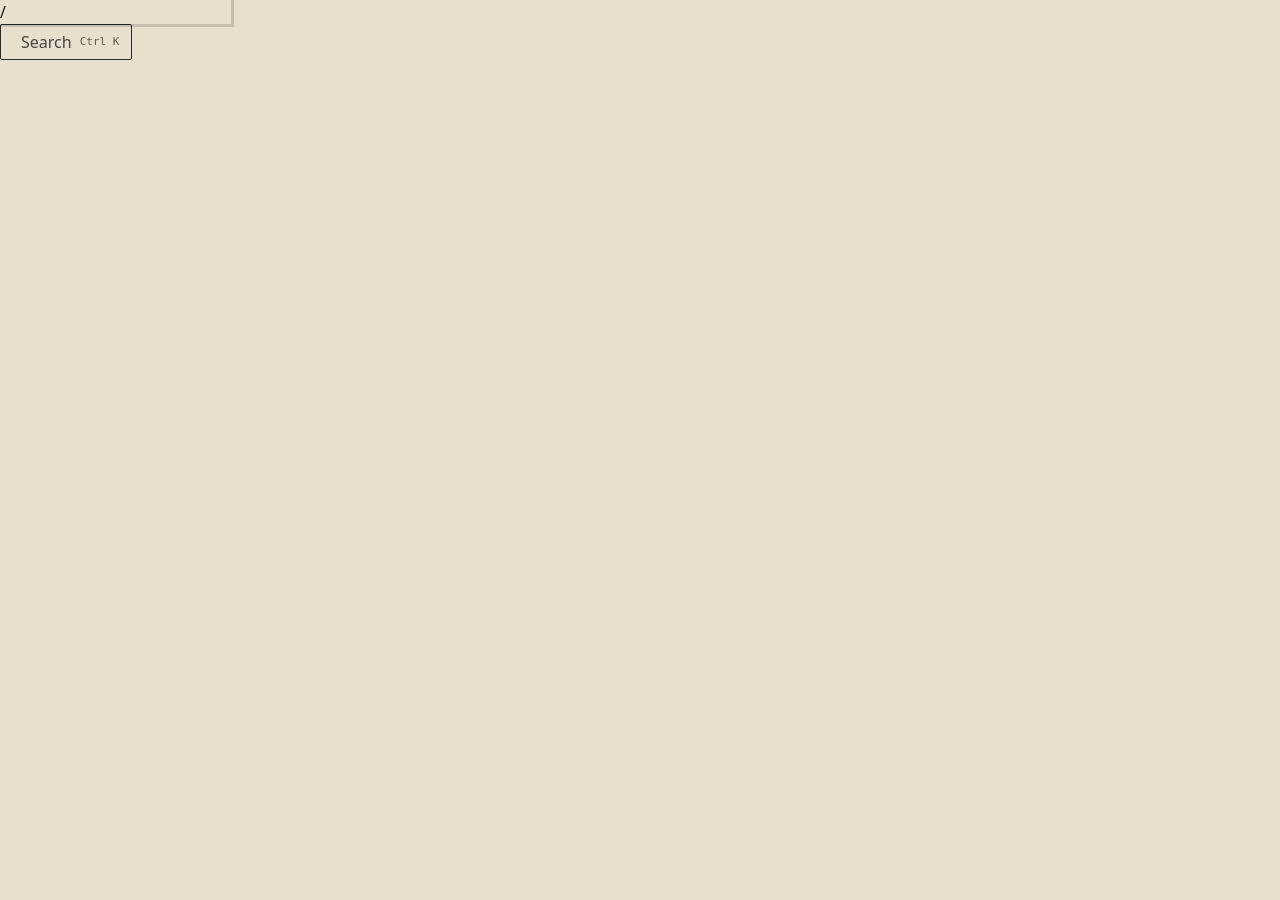
Test: search › opens with / outside a text field, and from the button
Earlier steps of the test are not shown.
Step 1. Press /
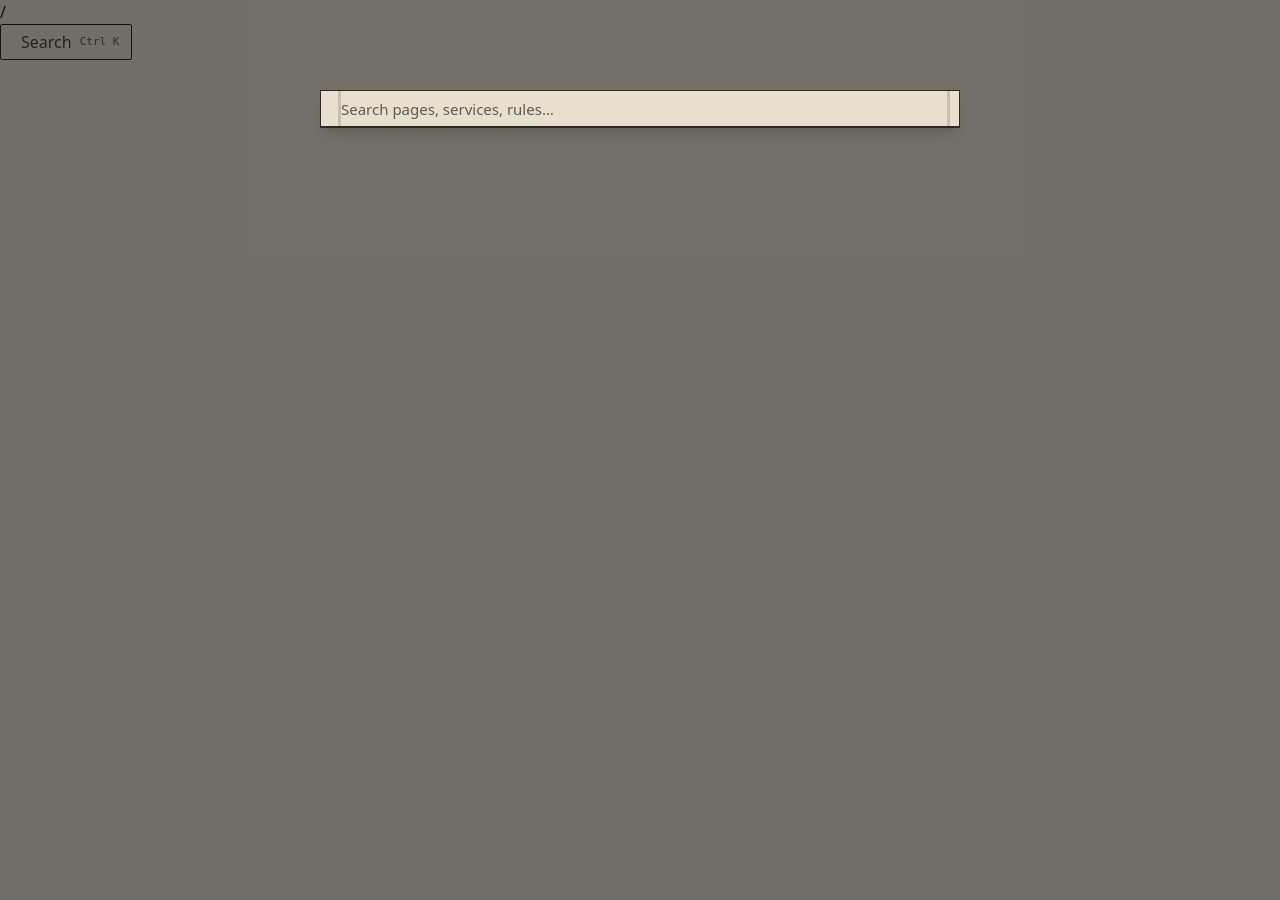
Expected: the dialog is shown, [320,90,960,128]
Step 2. Press Escape
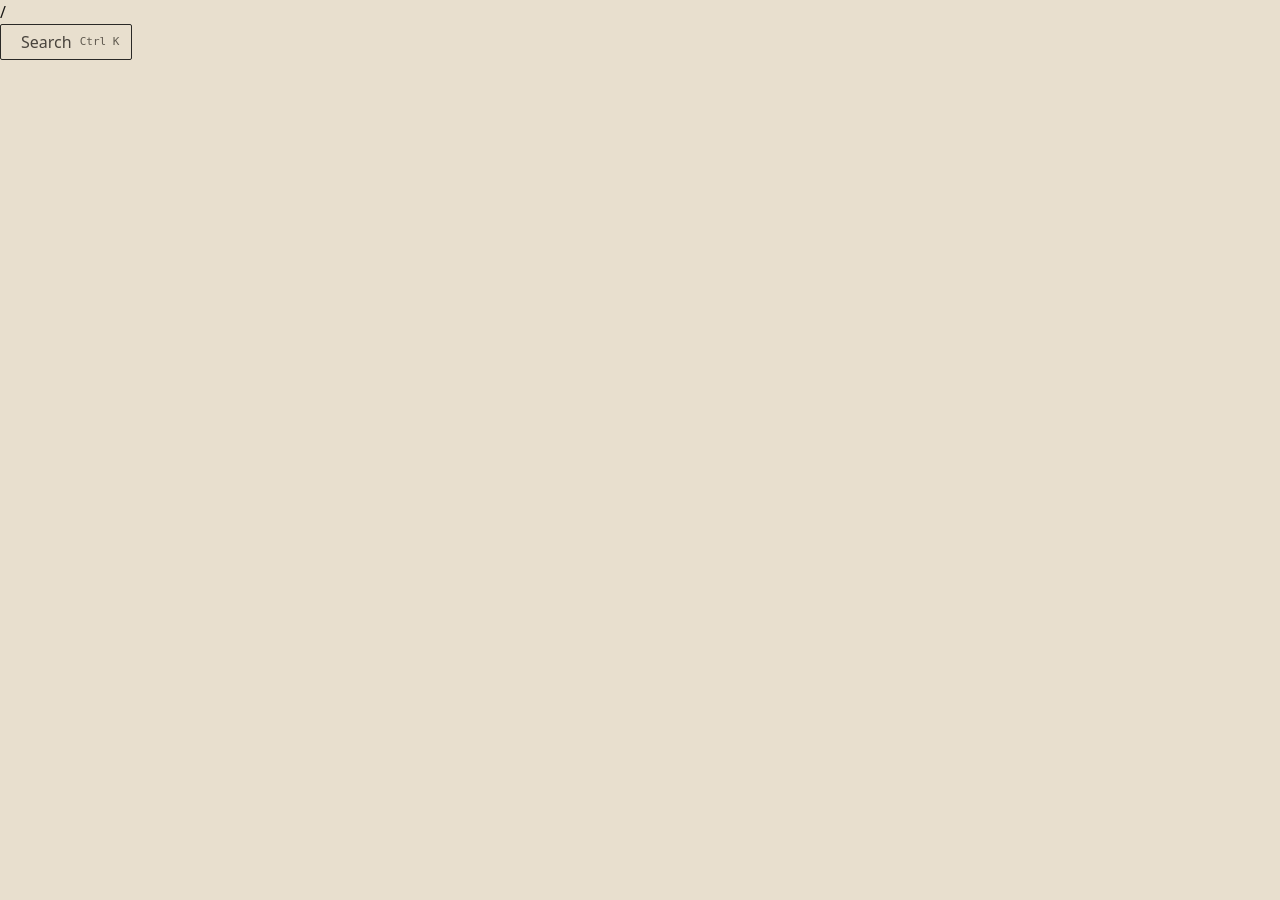
Step 3. Press k
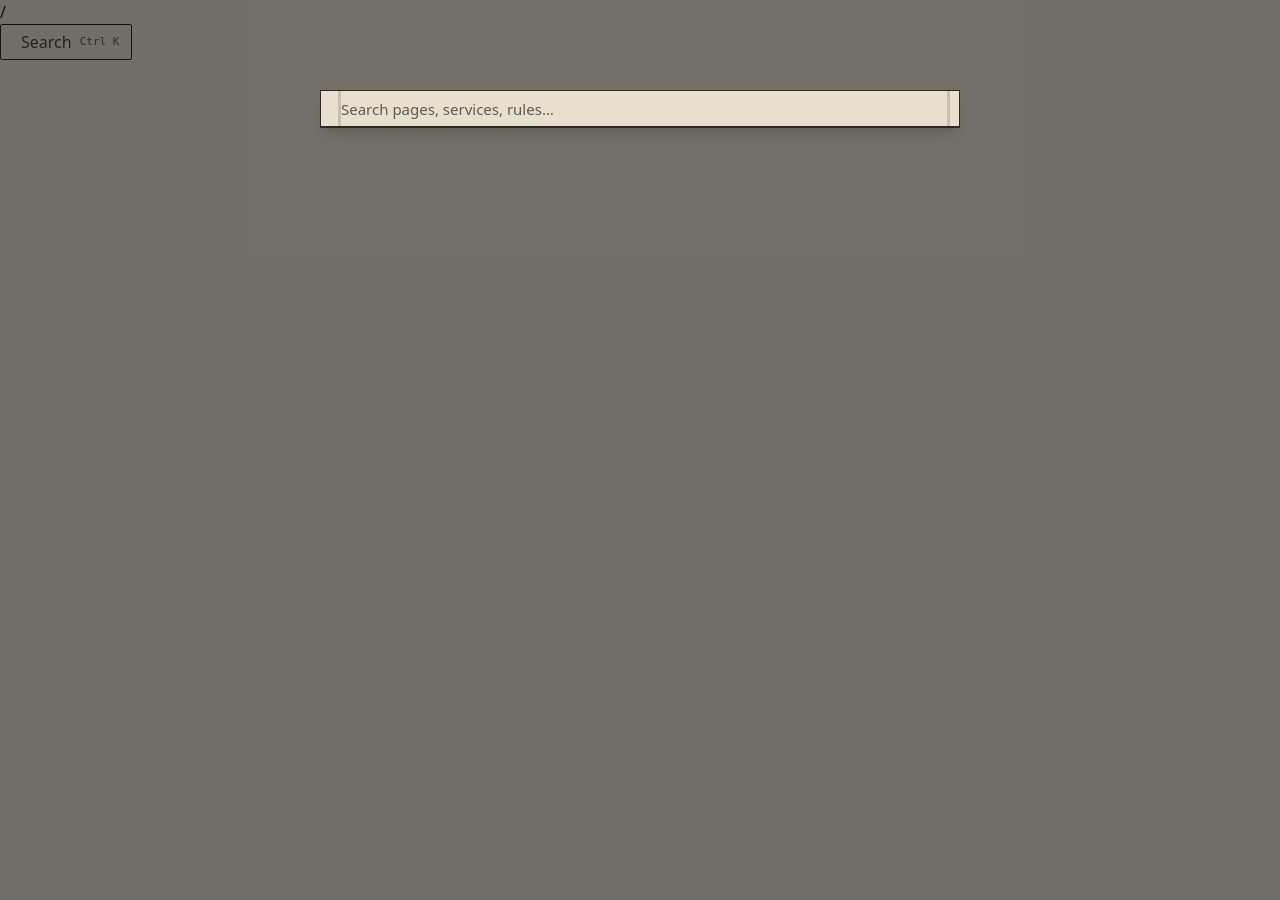
Expected: the dialog is shown, [320,90,960,128]
Step 4. Press Escape
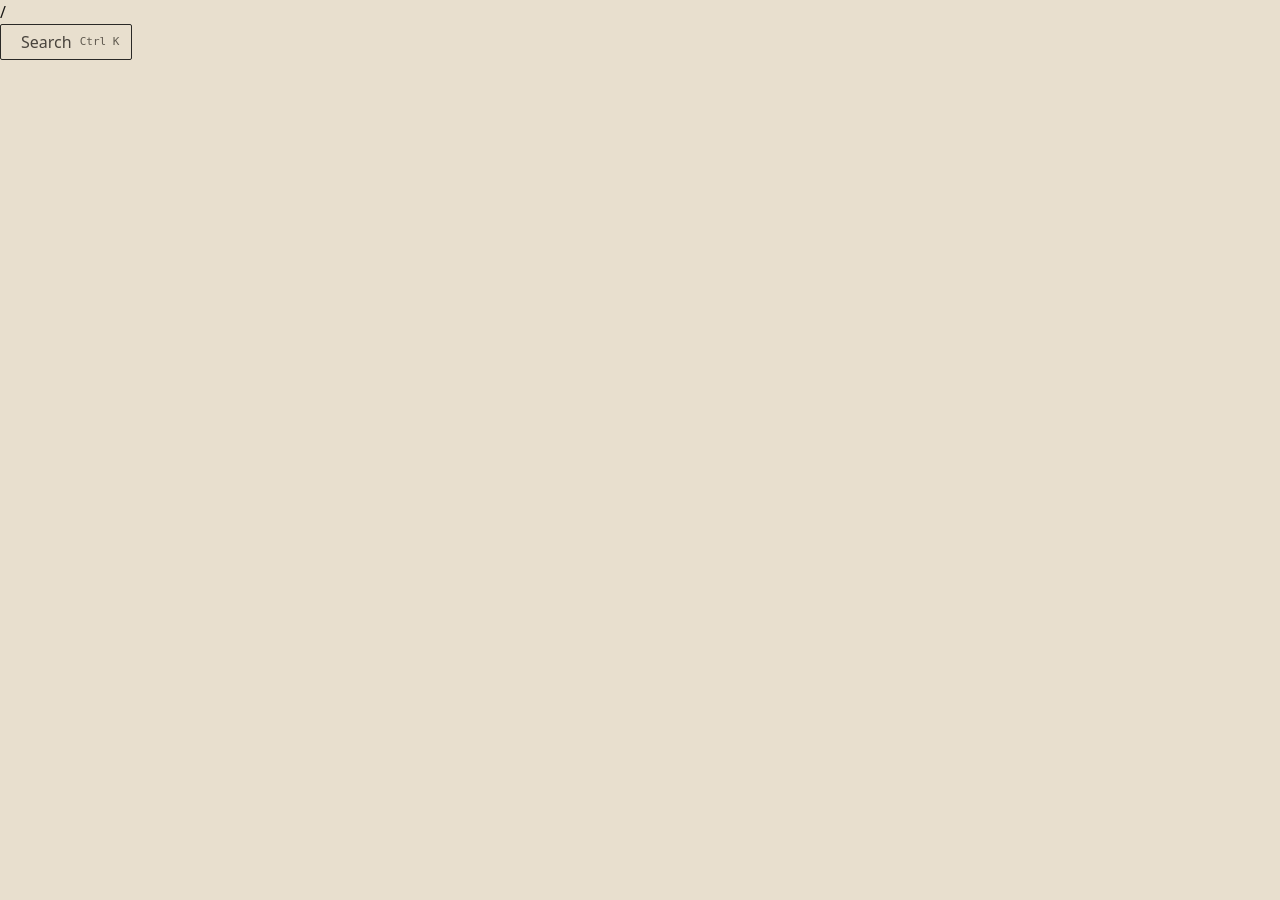
Step 5. Click the button "Search Ctrl K" → x=66, y=42, box [0,24,132,60]
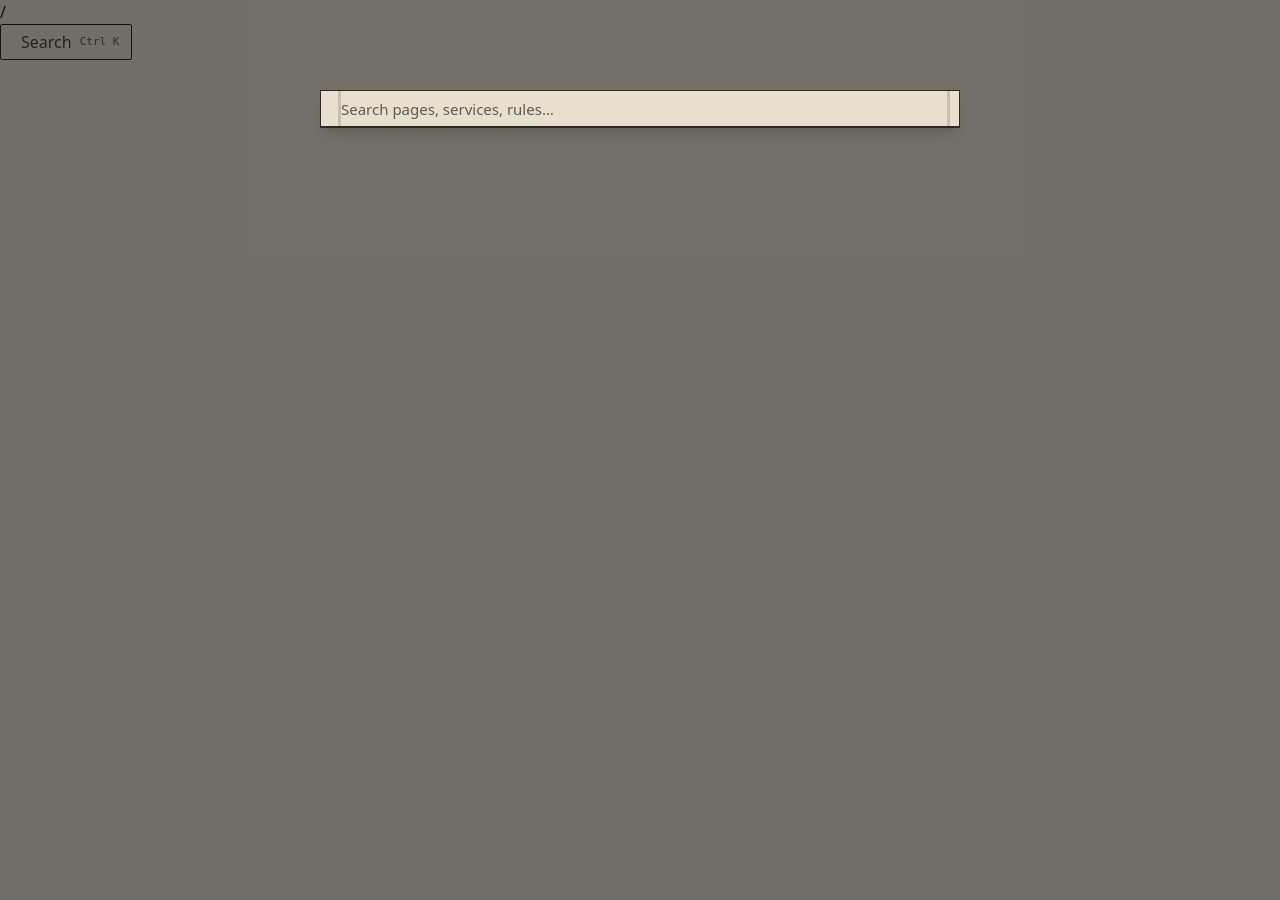
Expected: the dialog is shown, [320,90,960,128]
